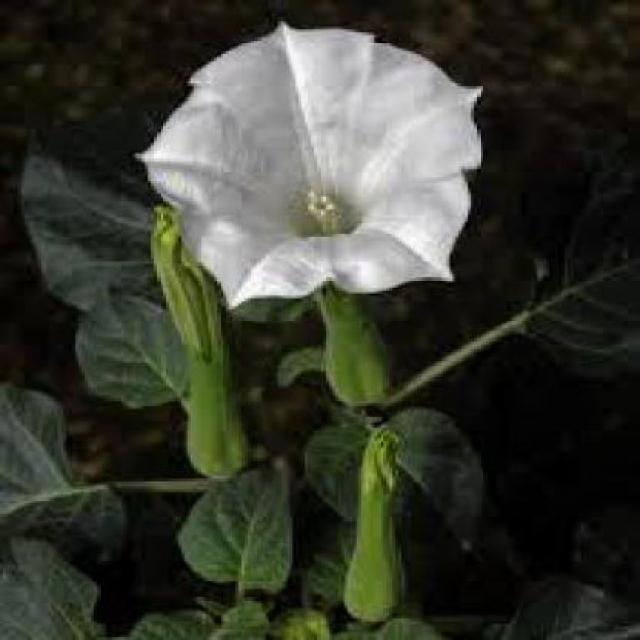flower: (157, 28, 498, 306)
